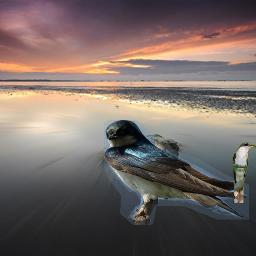Cuckoo: (232, 142, 256, 203)
Swallow: (104, 120, 249, 225)
